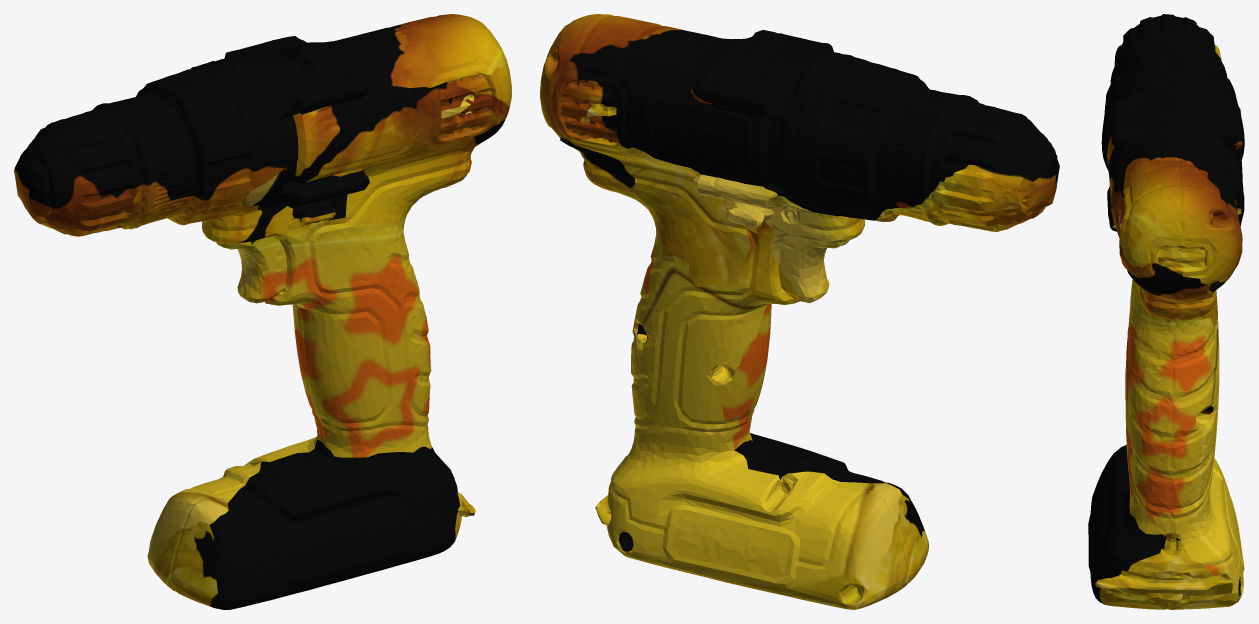
3 renders of one model, left to right at view 1: azimuth 30°, elevation 25°; view 2: azimuth 150°, elevation 25°; view 3: azimuth 270°, elevation 25°, orthographic. The views are drawn at different scales.
Parts seen in each view (by area): view 1: node; view 2: node; view 3: node.
Boxes of the visible parts, x1,y1,x2,y2 form: node: (14, 14, 511, 609); node: (540, 14, 1059, 609); node: (1088, 14, 1244, 609).
Bounding box in the file's own units: 0.1842 × 0.1875 × 0.0573.
